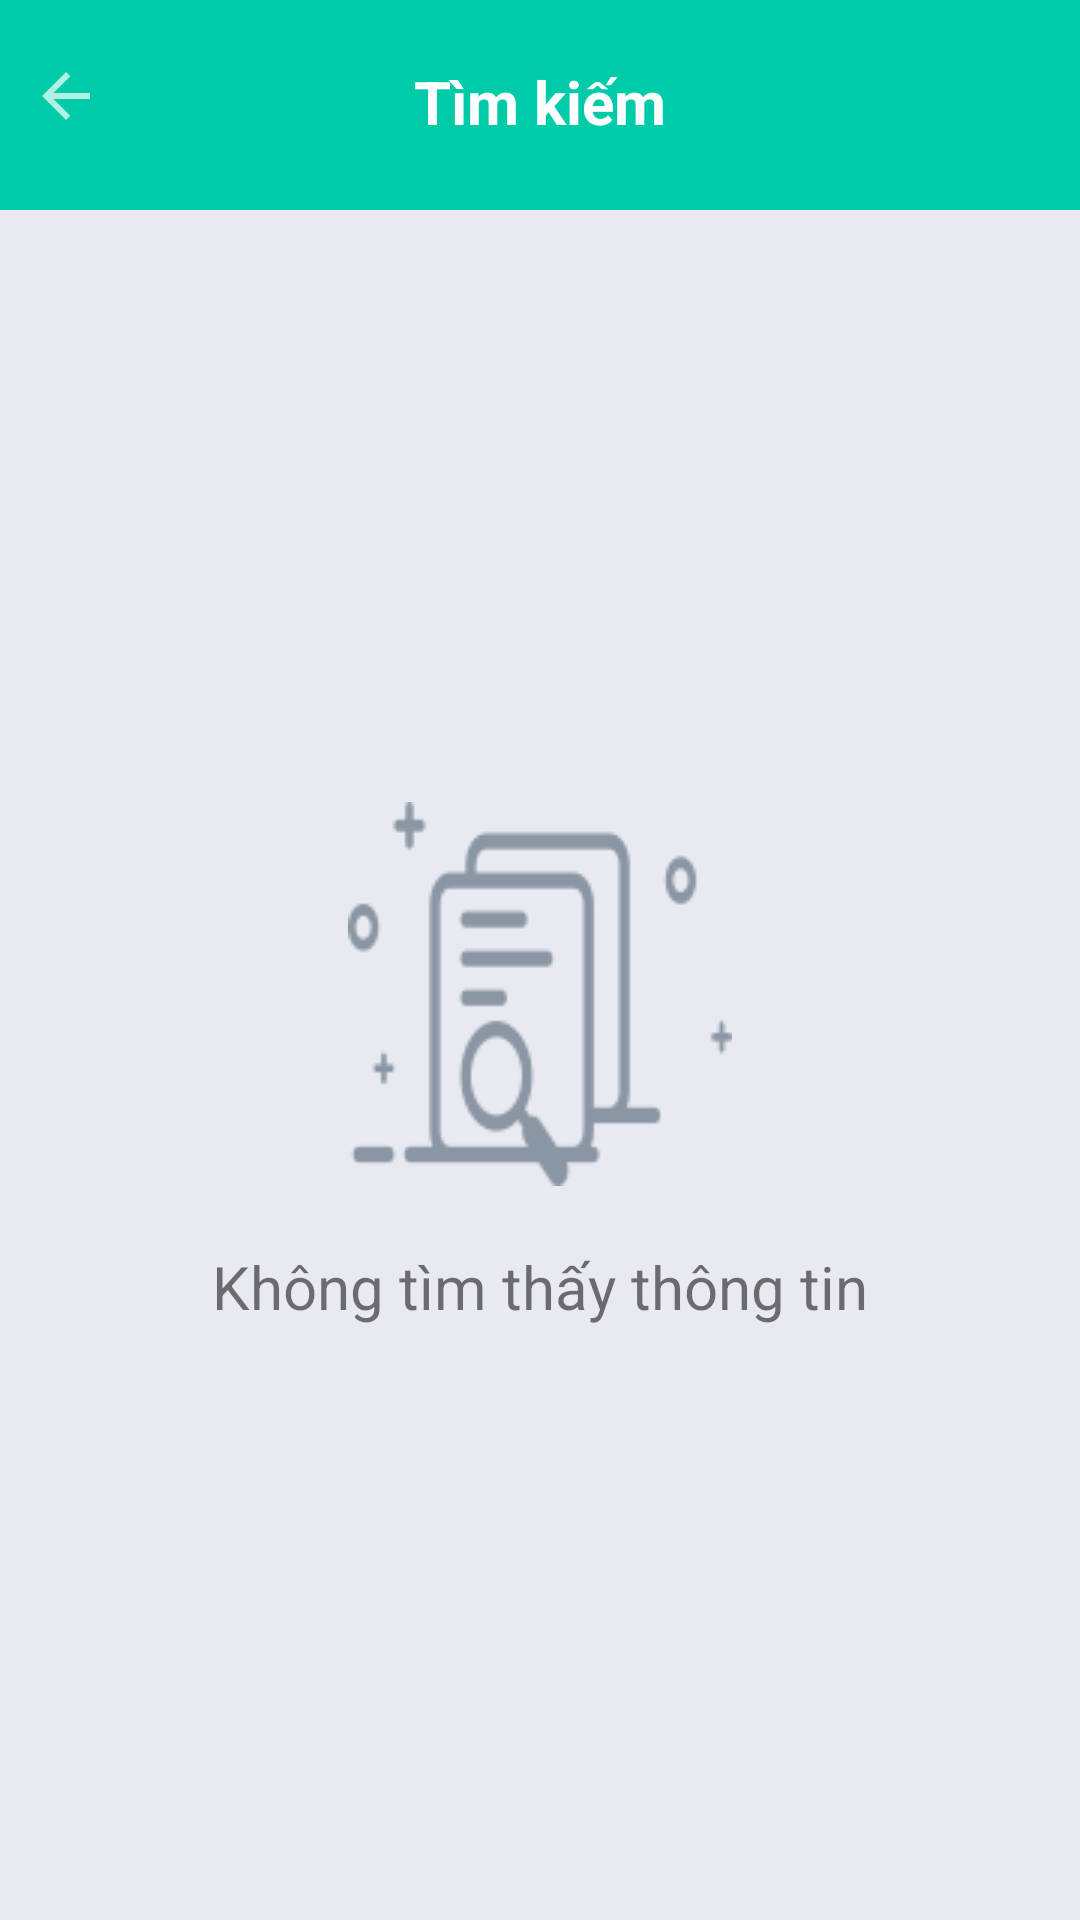

Icon click points for this 1080px×1920px phone screenshot, format (x=x, y=y):
arrow back: (x=66, y=96)
